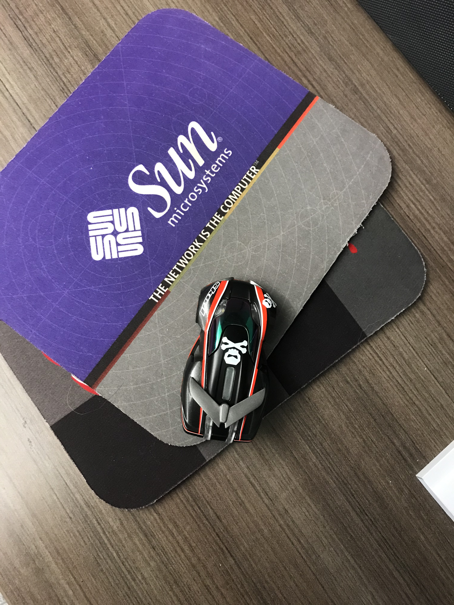Skull: (182, 277, 283, 444)
